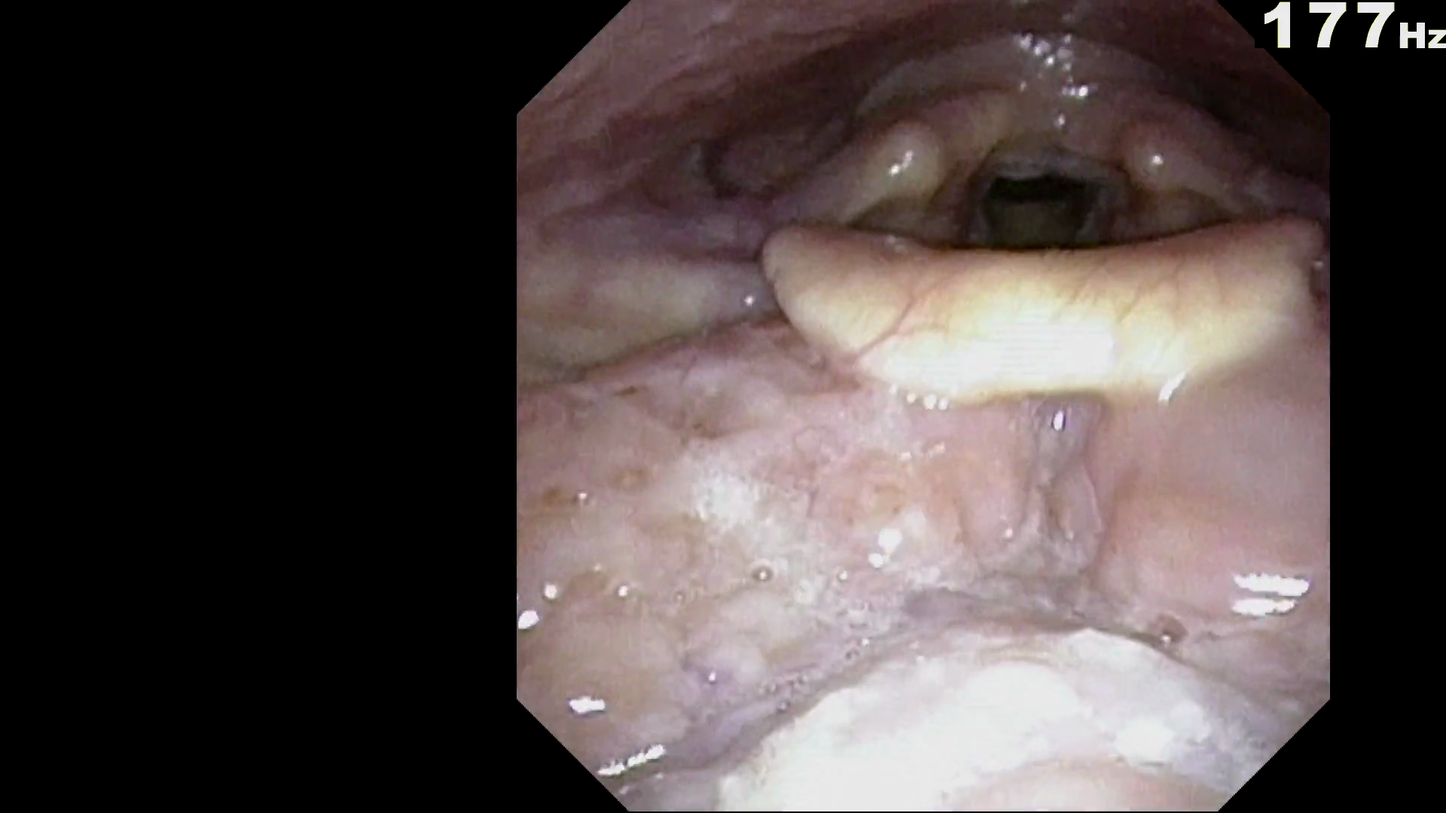epiglottis: (733, 167, 1309, 451)
trachea: (966, 149, 1113, 303)
